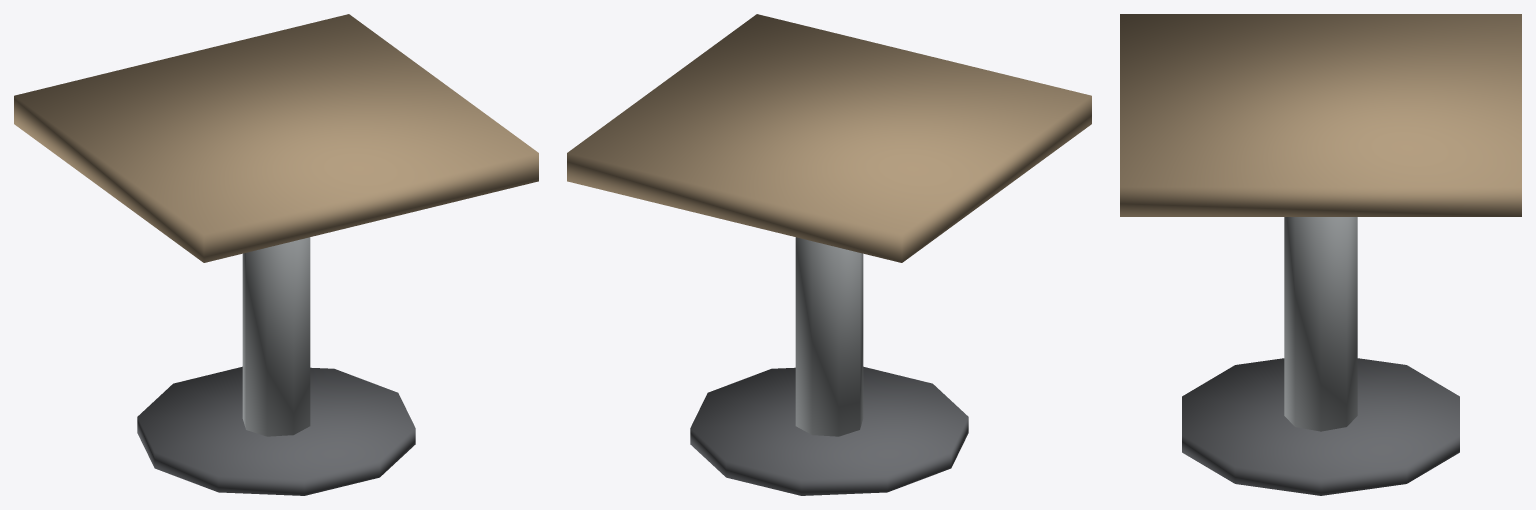
Rendered from cafe_pedestal_table__squat.glb.
3 renders of one model, left to right at view 1: azimuth 30°, elevation 25°; view 2: azimuth 150°, elevation 25°; view 3: azimuth 270°, elevation 25°, orthographic. The views are drawn at different scales.
Visible parts, largest first — view 1: world; view 2: world; view 3: world.
Boxes of the visible parts, left/top/right/bottom form: world: left=14, top=14, right=538, bottom=495; world: left=567, top=14, right=1091, bottom=495; world: left=1120, top=14, right=1521, bottom=495.
Size of the model in its own units: 0.726 by 0.651 by 0.7128.
